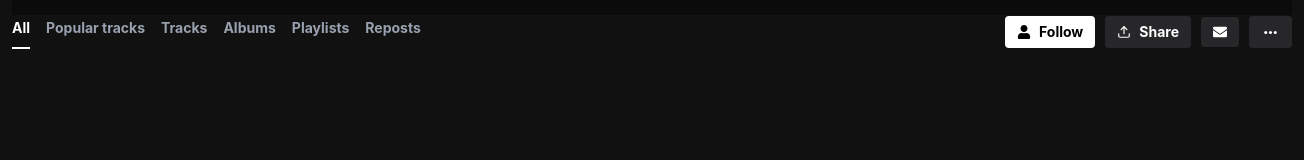
UserInfoBar › follows a viewed profile from the follow button
Click the button "Follow".
click(1050, 32)  # box left=1005, top=16, right=1095, bottom=48
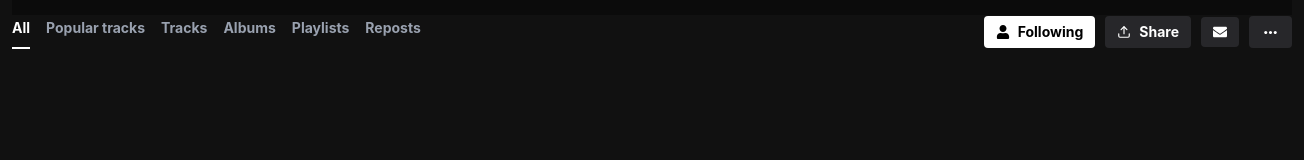
Expected: the button "Following" is shown, left=984, top=16, right=1095, bottom=48
